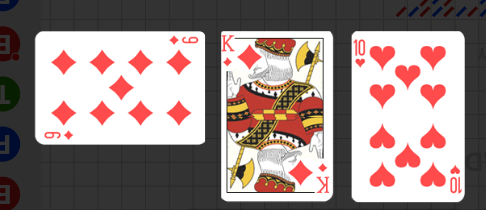10H: (353, 38, 367, 70)
9D: (167, 34, 200, 46), (43, 129, 75, 141)
